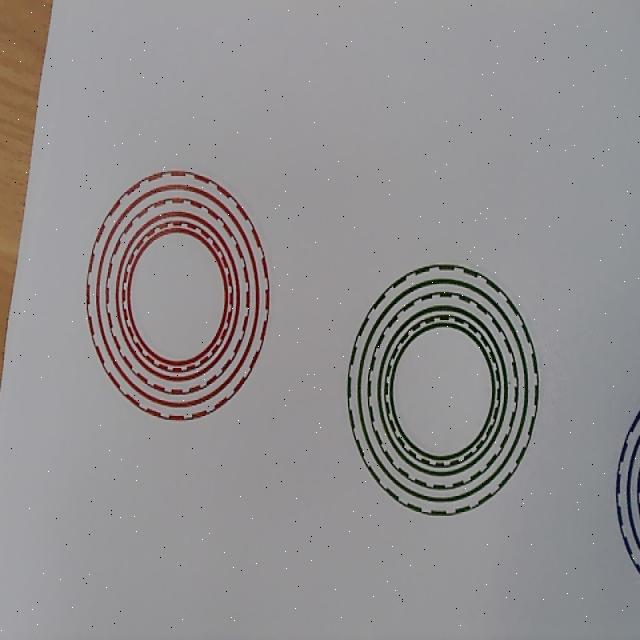g: (348, 264, 538, 517)
red-green-blue: (86, 168, 270, 422)
